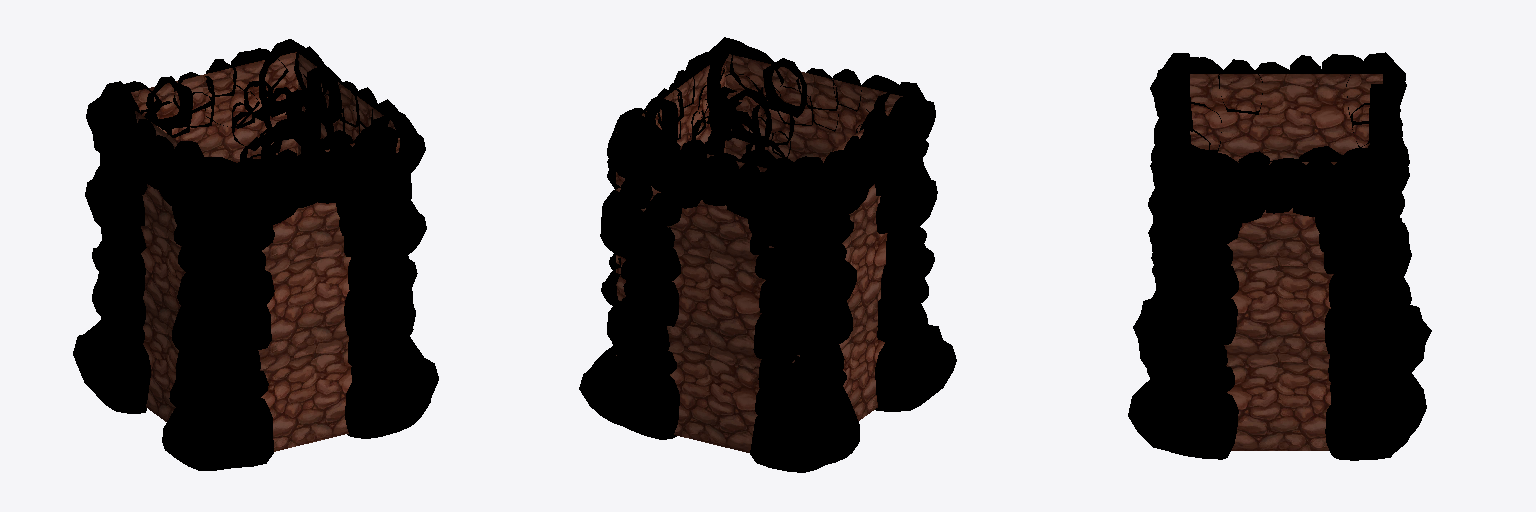
The picture shows the model from 3 angles: view 1: azimuth 30°, elevation 25°; view 2: azimuth 150°, elevation 25°; view 3: azimuth 270°, elevation 25°; orthographic projection.
Parts seen in each view (by area): view 1: polySurface54; view 2: polySurface54; view 3: polySurface54.
Boxes of the visible parts, <box> form: polySurface54: <box>73,39,438,470</box>; polySurface54: <box>579,37,956,472</box>; polySurface54: <box>1128,52,1431,460</box>.
Size of the model in its own units: 5.87 by 6.5 by 5.73.
2 materials, 1 textured.